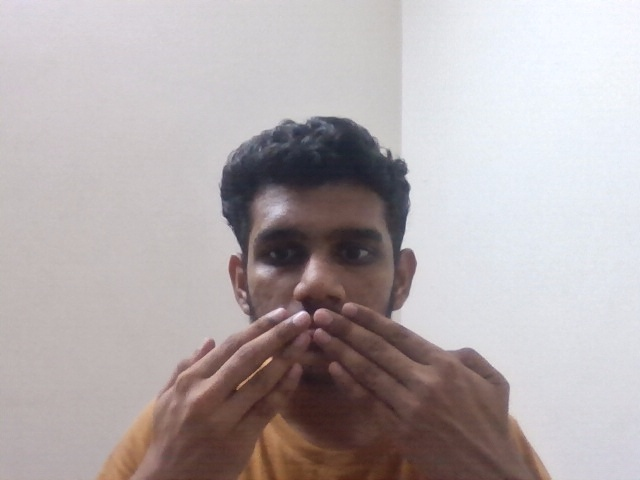thanks: (103, 304, 551, 467)
